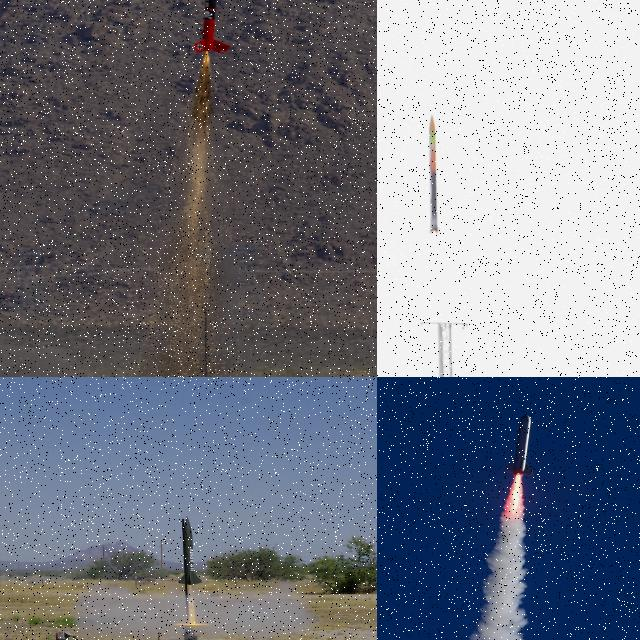Rocket: (502, 409, 542, 481), (192, 0, 231, 54), (179, 516, 202, 586), (428, 115, 439, 233)
